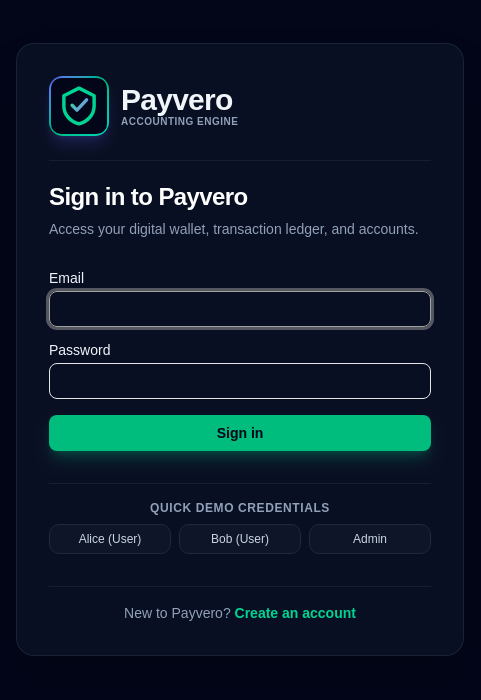
Test: errors that name no field › surfaces INSUFFICIENT_FUNDS as a form-level alert
The width and height of the screenshot is (481, 700).
Type "alice@payvero.dev" into the field labelled "Email".
click(240, 308); type("alice@payvero.dev")  # box [49,290,431,326]
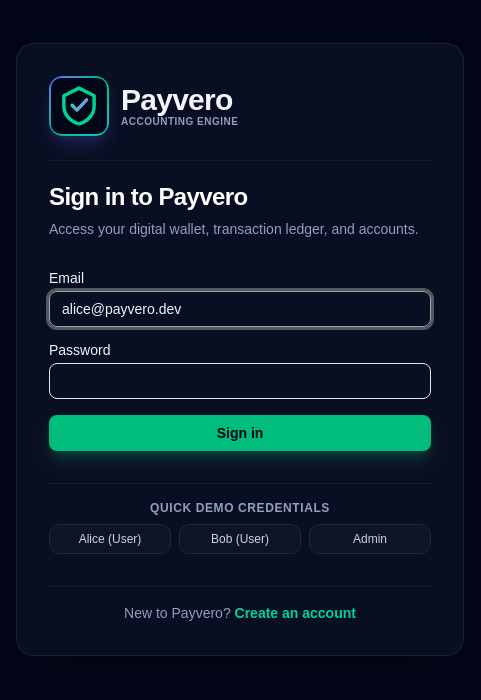
Type "demo-password-123" into the password field labelled "Password".
click(240, 380); type("demo-password-123")  # box [49,362,431,398]
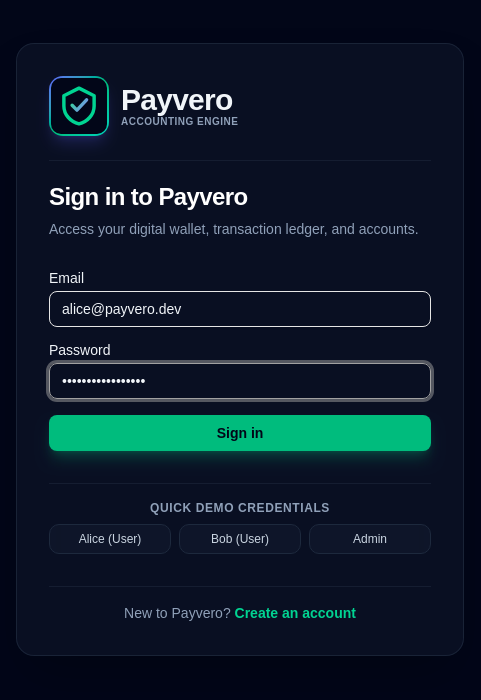
Click the button "Sign in".
click(240, 432)  # box [49,414,431,450]
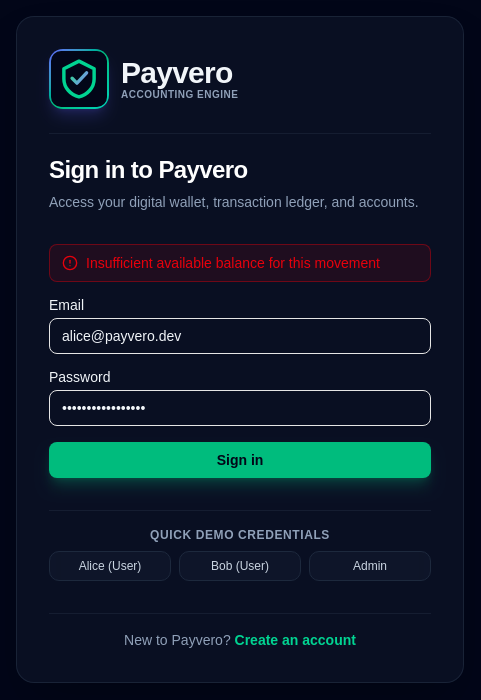
Expected: the message reads "Insufficient available balance for this movement", [86,254,380,270]
